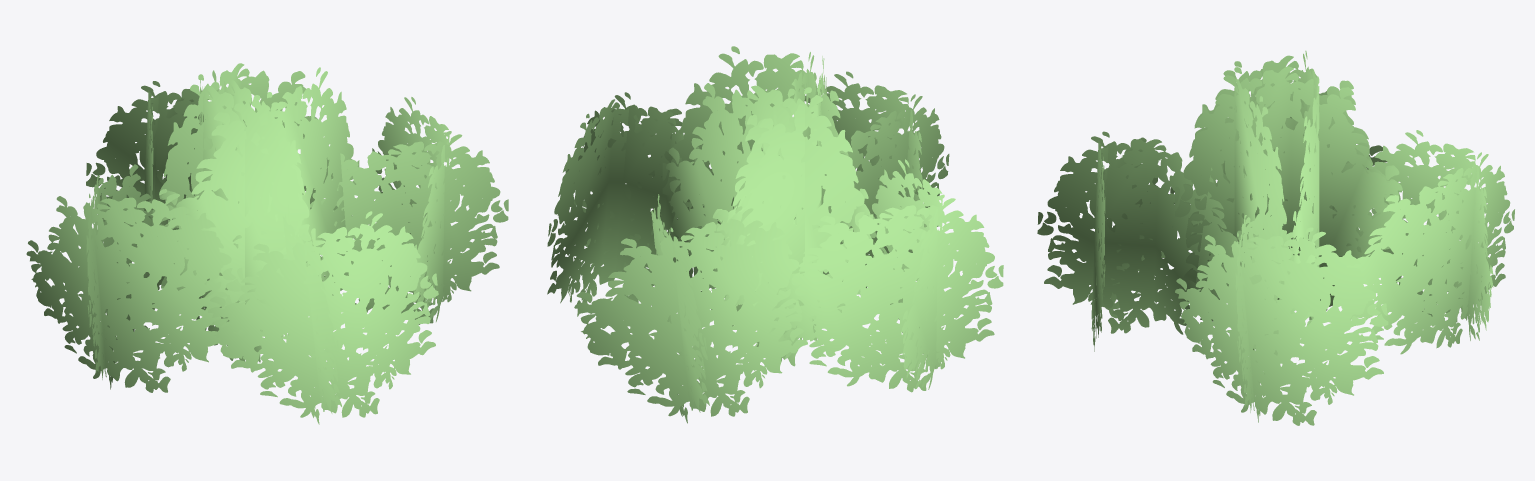
The model's file is SM_Bush_01.fbx.
The picture shows the model from 3 angles, left to right: view 1: azimuth 30°, elevation 25°; view 2: azimuth 150°, elevation 25°; view 3: azimuth 270°, elevation 25°; orthographic projection. The views are drawn at different scales.
Visible parts, largest first — view 1: Bush_01, Bush_01.001; view 2: Bush_01.001, Bush_01; view 3: Bush_01.001, Bush_01.
Boxes of the visible parts, left/top/right/bottom form: Bush_01: left=26, top=67, right=508, bottom=392; Bush_01.001: left=86, top=63, right=438, bottom=424; Bush_01.001: left=574, top=56, right=949, bottom=423; Bush_01: left=547, top=46, right=1003, bottom=392; Bush_01.001: left=1037, top=50, right=1514, bottom=354; Bush_01: left=1175, top=66, right=1402, bottom=425.
Bounding box in the file's own units: 64.01 × 44.23 × 64.01.
